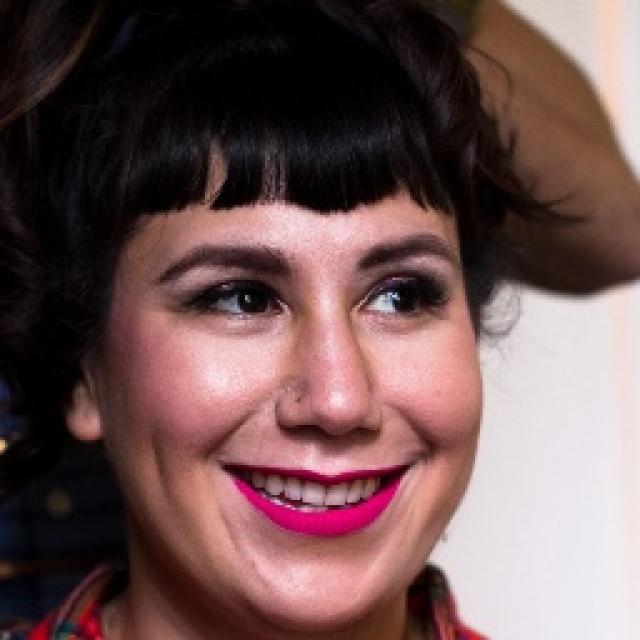earlobe: (65, 392, 106, 442)
eye: (194, 280, 286, 320), (358, 280, 442, 314)
nose: (280, 416, 381, 466)
